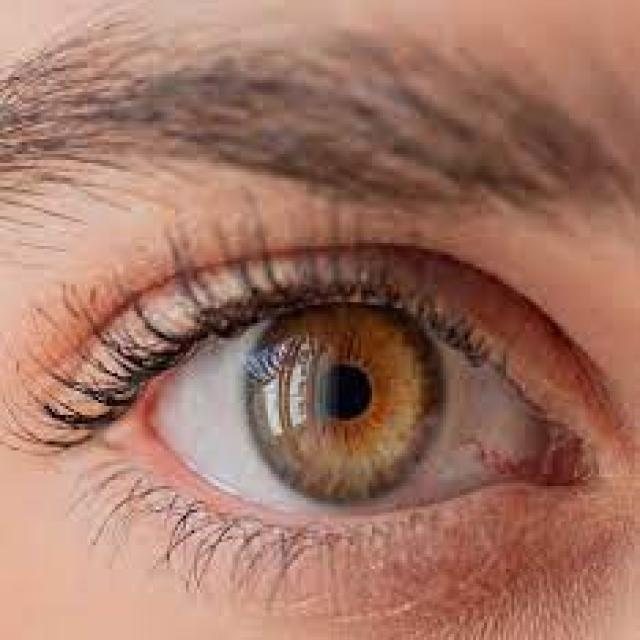Eyes-iris: (236, 299, 450, 520)
